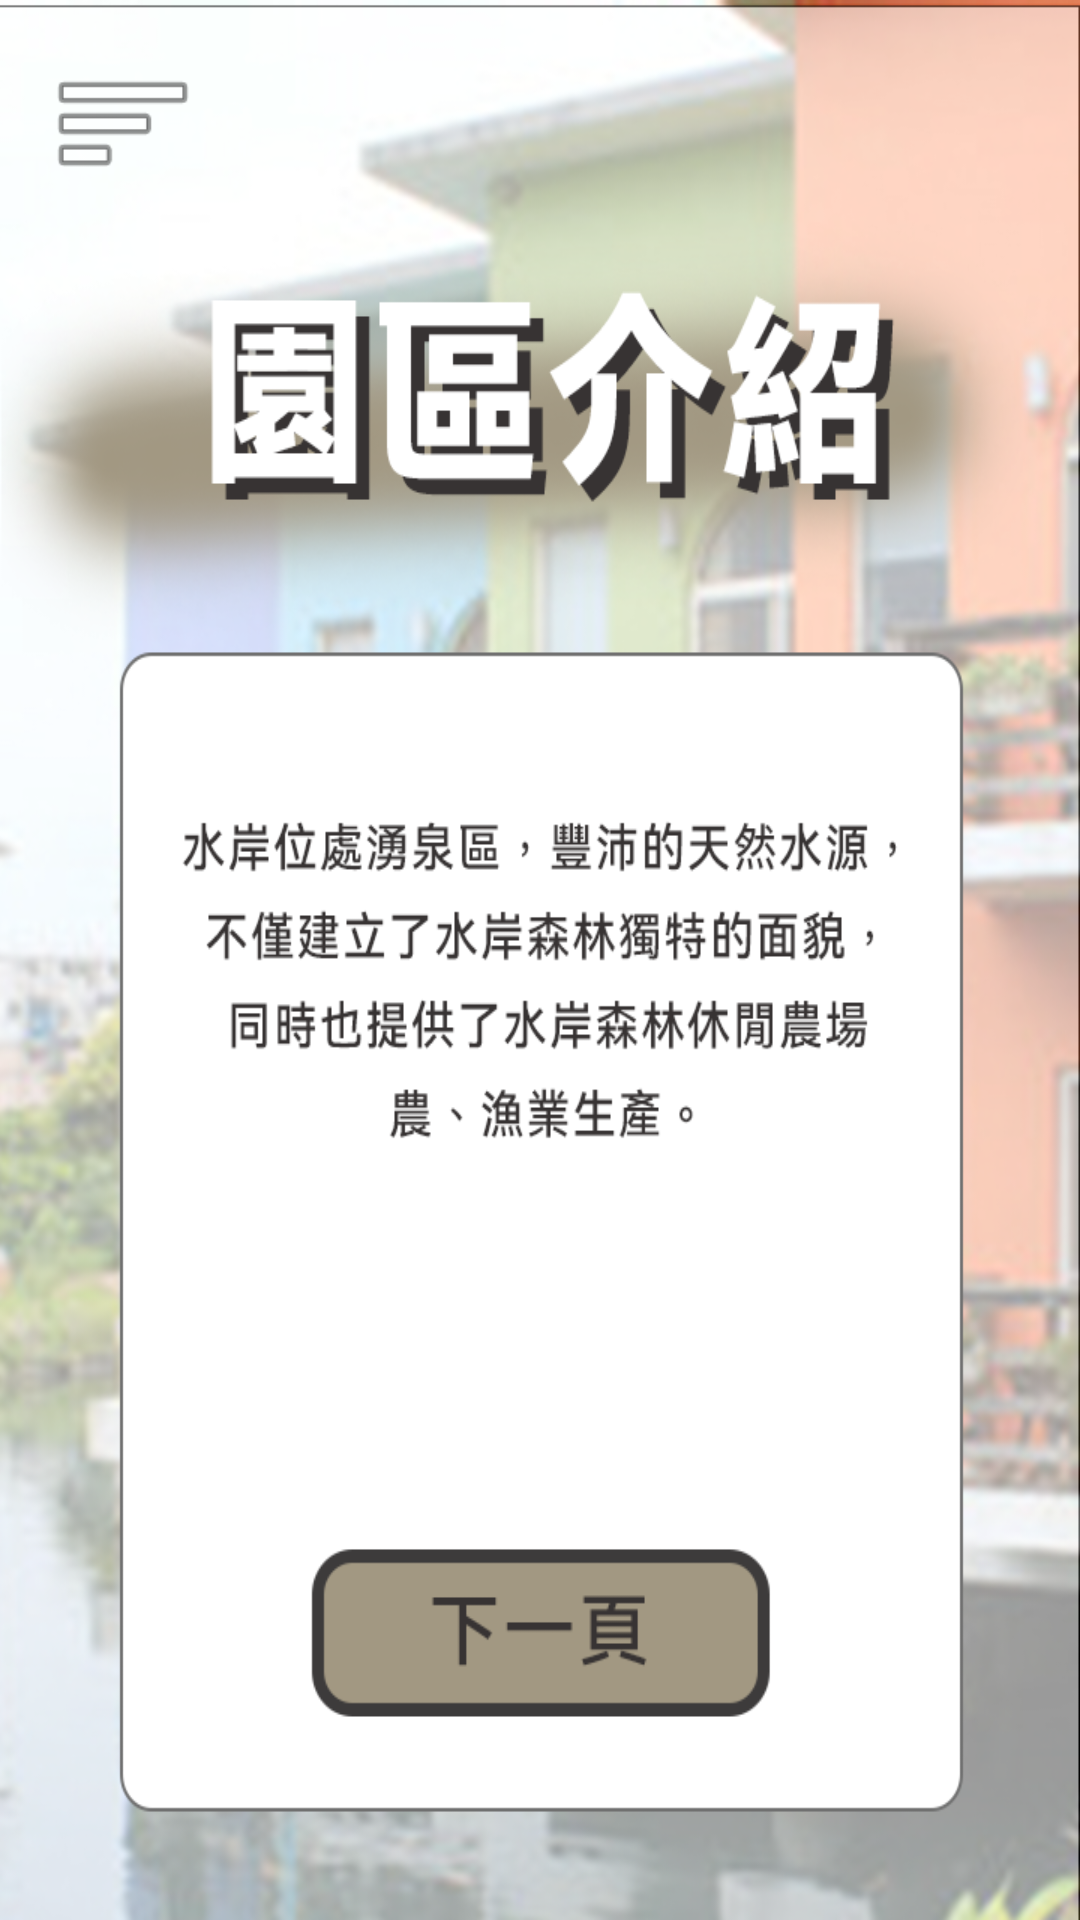

Point at icon controls on the screen. Image size 1080x1920, points as [x,y].
sort by size: [123,124]
